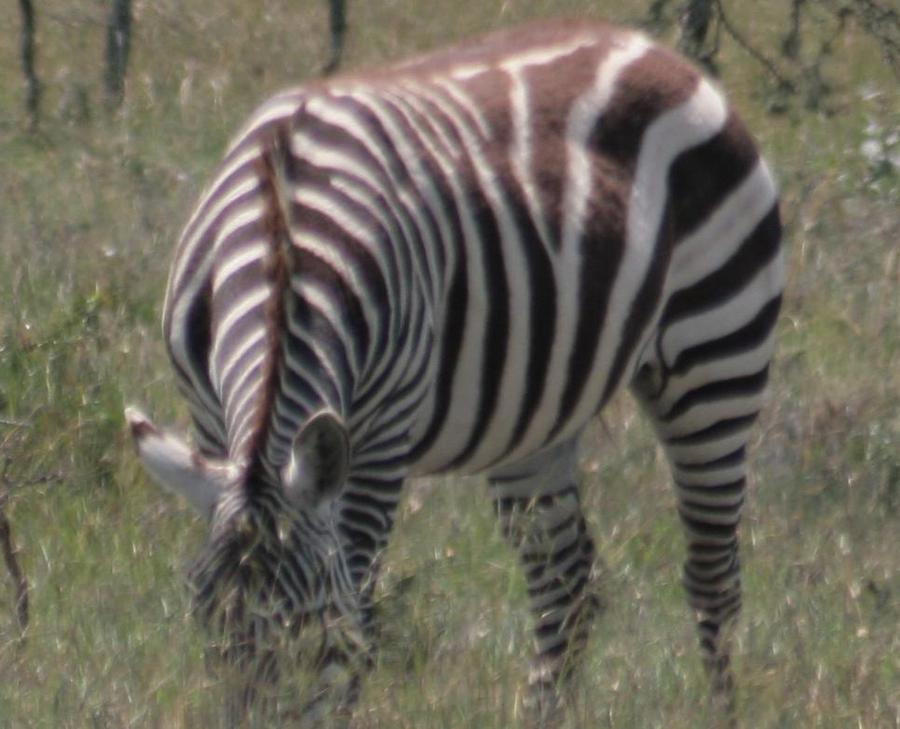zebra_plains: (266, 40, 838, 478)
